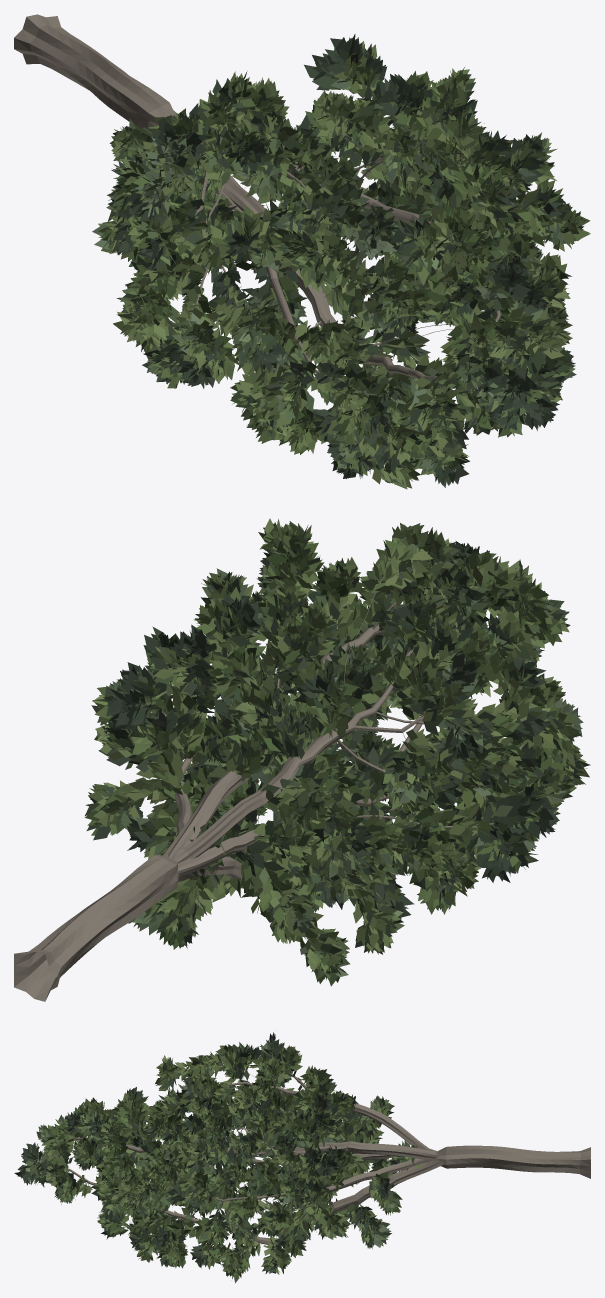
The model's file is tree_near_10.obj.
The picture shows the model from 3 angles, top to bottom: view 1: azimuth 30°, elevation 25°; view 2: azimuth 150°, elevation 25°; view 3: azimuth 270°, elevation 25°; orthographic projection. The views are drawn at different scales.
Visible parts, largest first — view 1: tree_near_10; view 2: tree_near_10; view 3: tree_near_10.
Part boxes in pixels (x1,y1,x2,y2): tree_near_10: [14, 14, 590, 489]; tree_near_10: [14, 518, 590, 1001]; tree_near_10: [14, 1032, 590, 1283].
Size of the model in its own units: 0.4558 by 0.4175 by 0.9969.
Materials: 1 (1 with a texture image).
